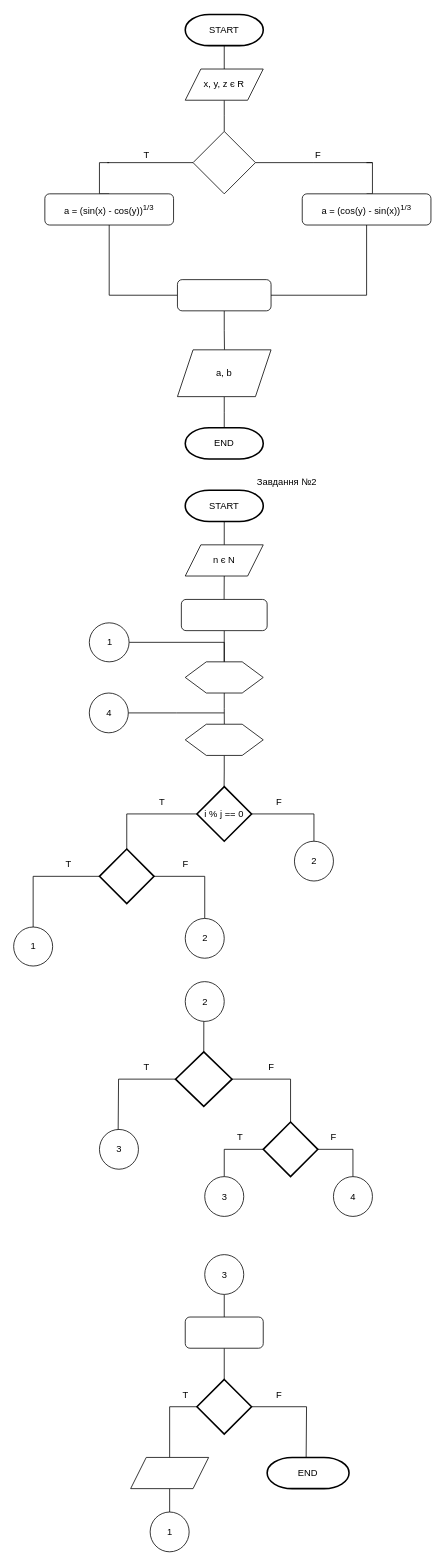
Image size: 445x1565. Some labels were removed from this diagram. Here are the shapes that lost their labels. From the top down, the centre of each, then its label:
pixel 223 162: sin(x)>=cos(y)
pixel 224 295: b = cos(sin(a 2 ))
pixel 224 615: num = 0;
pixel 223 677: i=1; i<n; i++
pixel 223 739: j=2; j<n; j++
pixel 126 876: j != i
pixel 203 1079: j == i - 1
pixel 290 1149: j == i
pixel 223 1332: num = 2 ^ i - 1;
pixel 224 1406: num < n
pixel 169 1473: output: num
